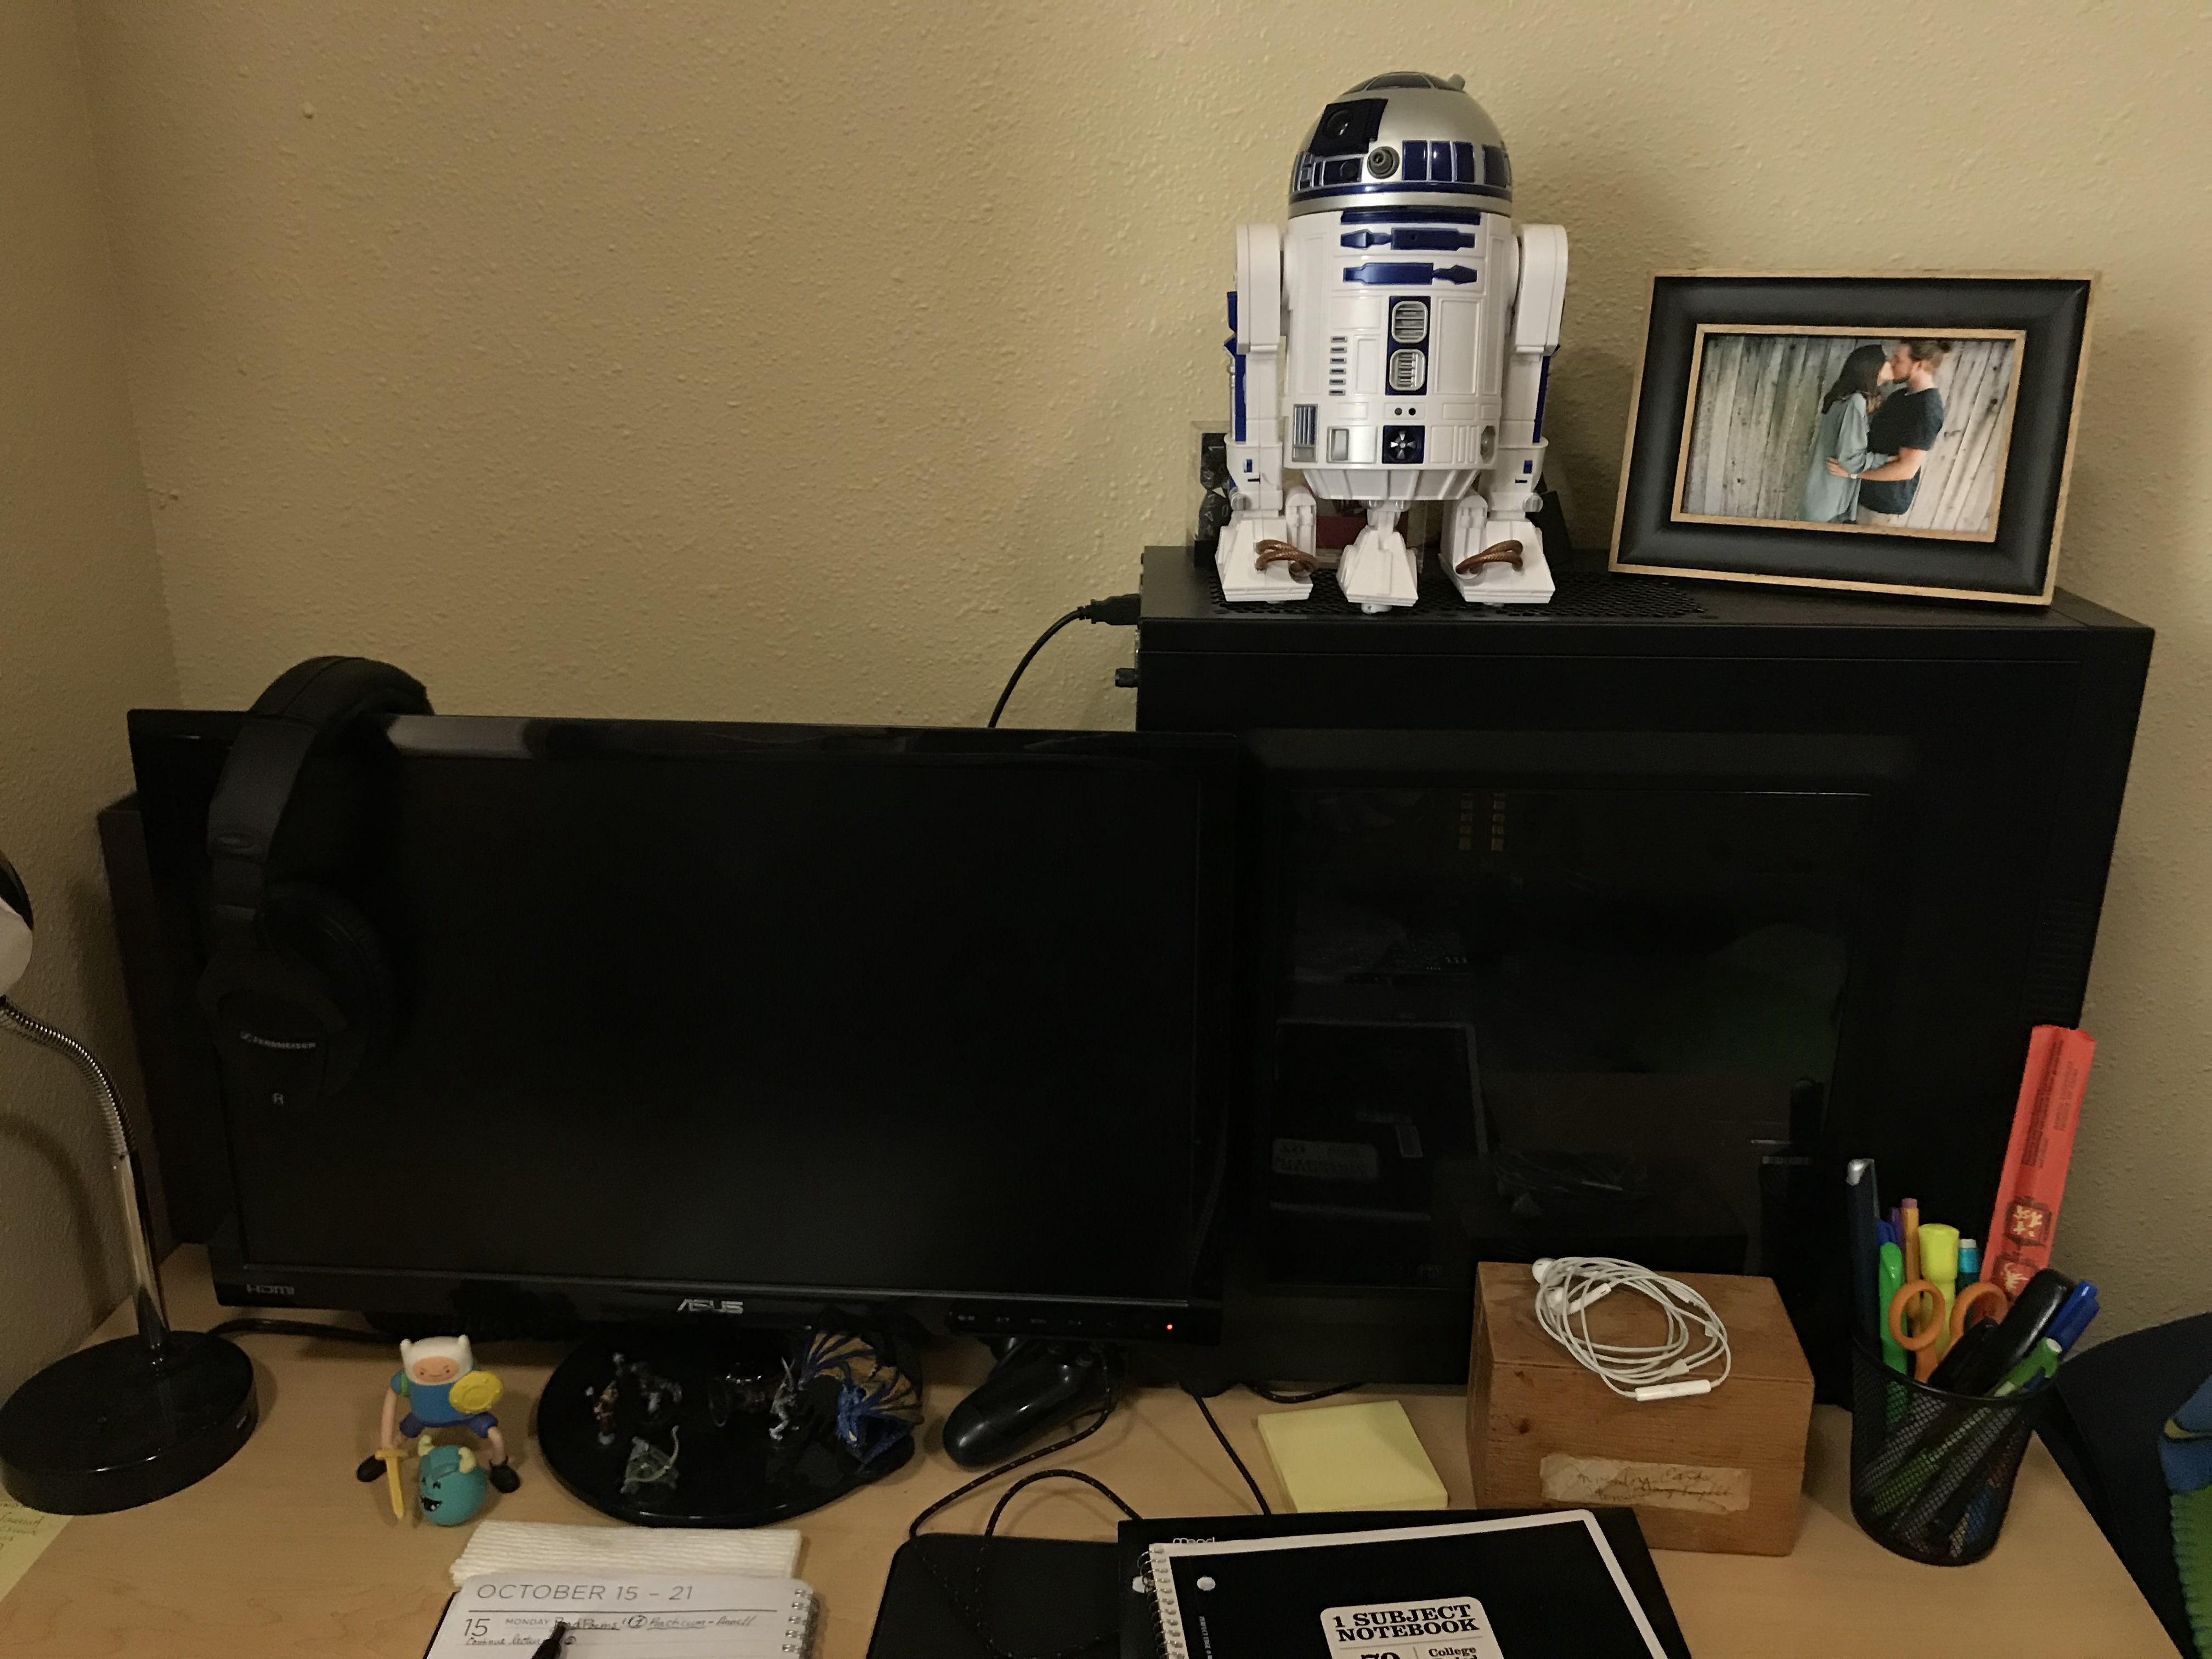r2d2: (1209, 68, 1569, 612)
